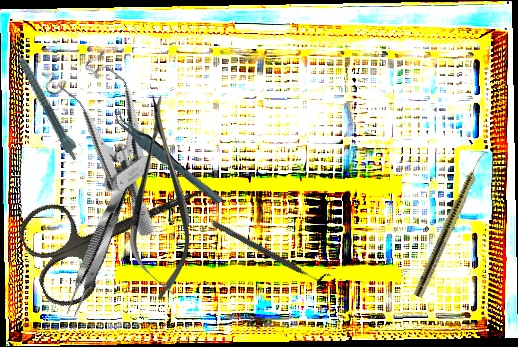Fixation Ring: (207, 213, 332, 293)
Handpiece: (412, 147, 490, 300), (8, 37, 84, 163)
Iris Scissors: (12, 144, 226, 314)
Micro Scissor: (130, 94, 191, 300)
Speculum: (26, 34, 210, 240)
Tissue Forceps: (109, 98, 224, 217), (60, 161, 142, 321)
